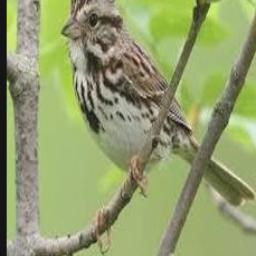Sparrow: (60, 0, 256, 253)
